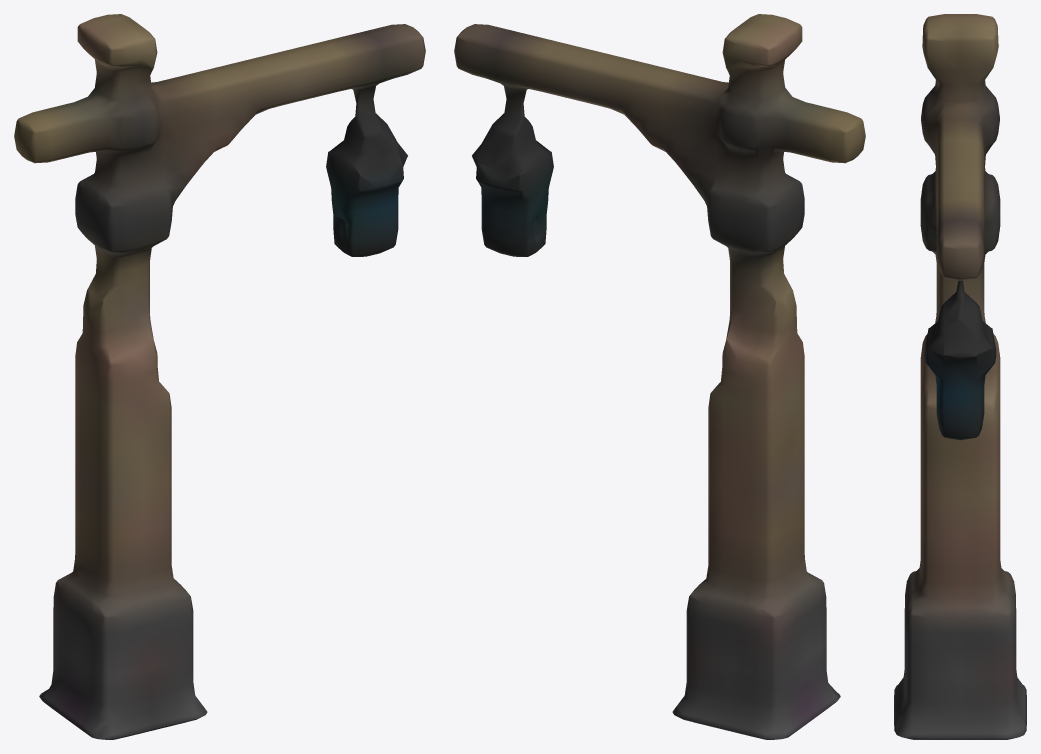
The model's file is Lantern_512B_voxs.glb.
The picture shows the model from 3 angles, left to right: view 1: azimuth 30°, elevation 25°; view 2: azimuth 150°, elevation 25°; view 3: azimuth 270°, elevation 25°; orthographic projection.
Bounding box in the file's own units: 1.22 × 2 × 0.3477.
